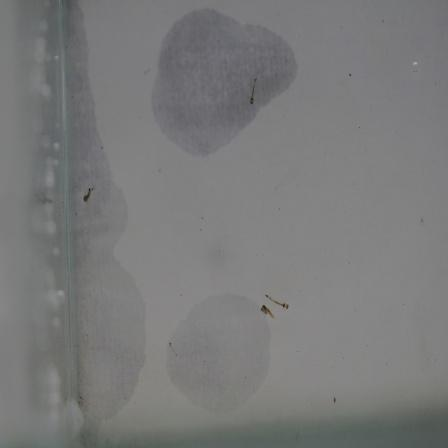Jentik-Nyamuk: (259, 289, 293, 323), (245, 80, 260, 113), (79, 182, 99, 205)
